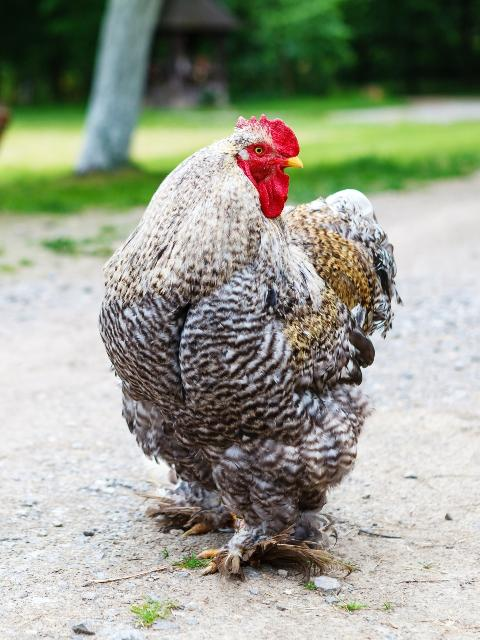Chicken: (99, 116, 398, 581)
